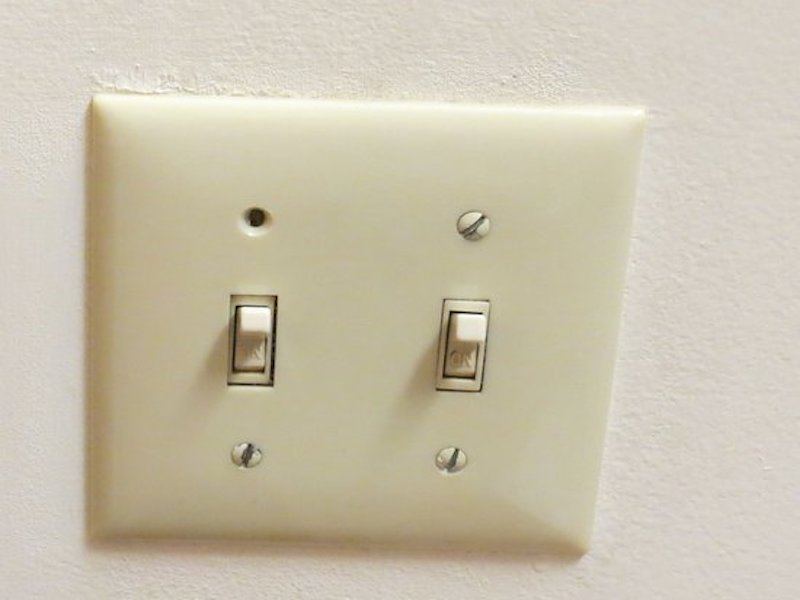hole: (239, 204, 272, 236)
screw: (455, 209, 494, 243), (433, 444, 470, 476), (229, 439, 265, 471)
